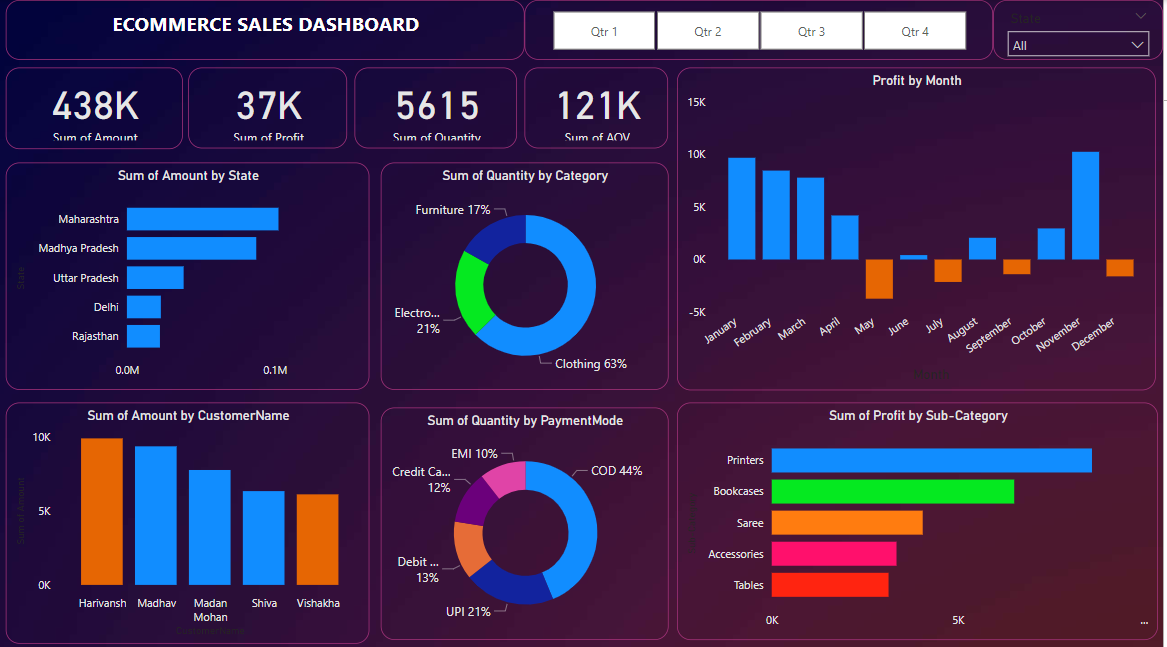

This screenshot's page, from the dashboard's own definition file:
{"tool":"powerbi","page":{"name":"Page 1","canvas":[1280,720],"ordinal":0},"visuals":[{"type":"textbox","box":[9.6,0,569.5,65.9],"z":0},{"type":"columnChart","title":"Profit by Month","fields":{"Category":["Orders.Order Date.Variation.Date Hierarchy.Month"],"Y":["Details.Profit"]},"box":[746.5,74.1,525.6,354],"z":1000},{"type":"barChart","fields":{"Category":["Details.Sub-Category"],"Y":["Details.Profit"]},"box":[746.5,441.9,528.3,260.7],"z":2000},{"type":"donutChart","fields":{"Category":["Details.Category"],"Y":["Details.Quantity"]},"box":[421.3,178.4,315.6,249.7],"z":3000},{"type":"donutChart","fields":{"Category":["Details.PaymentMode"],"Y":["Details.Quantity"]},"box":[421.3,447.3,315.6,255.2],"z":4000},{"type":"card","fields":{"Values":["Details.Amount"]},"box":[9.3,74.4,194.2,89.5],"z":5000},{"type":"card","fields":{"Values":["Details.Quantity"]},"box":[392.5,74.1,178.4,89.2],"z":6000},{"type":"card","fields":{"Values":["Details.Profit"]},"box":[209.9,74.1,174.3,89.2],"z":7000},{"type":"card","fields":{"Values":["Details.AOV"]},"box":[579.1,74.1,157.8,89.2],"z":8000},{"type":"barChart","fields":{"Category":["Orders.State"],"Y":["Details.Amount"]},"box":[9.6,178.4,399.3,249.7],"z":8001},{"type":"columnChart","fields":{"Category":["Orders.CustomerName"],"Y":["Details.Amount"]},"box":[9.6,441.9,399.3,264.8],"z":8002},{"type":"slicer","fields":{"Values":["Orders.Order Date.Variation.Date Hierarchy.Quarter"]},"box":[579.1,0,514.6,65.9],"z":8003},{"type":"slicer","fields":{"Values":["Orders.State"]},"box":[1093.7,0,186.6,65.9],"z":8004}]}

Visuals, with their boxes in screenshot pixels (x1, y1, x2, y2), scaled from the page's 1280x720 canvas onto the 1167x647 screenshot:
textbox: bbox(9, 0, 528, 59)
"Profit by Month" columnChart: bbox(681, 67, 1160, 385)
barChart - Details.Sub-Category x Details.Profit: bbox(681, 397, 1162, 631)
donutChart - Details.Category x Details.Quantity: bbox(384, 160, 672, 385)
donutChart - Details.PaymentMode x Details.Quantity: bbox(384, 402, 672, 631)
card - Details.Amount: bbox(8, 67, 186, 147)
card - Details.Quantity: bbox(358, 67, 521, 147)
card - Details.Profit: bbox(191, 67, 350, 147)
card - Details.AOV: bbox(528, 67, 672, 147)
barChart - Orders.State x Details.Amount: bbox(9, 160, 373, 385)
columnChart - Orders.CustomerName x Details.Amount: bbox(9, 397, 373, 635)
slicer - Orders.Order Date.Variation.Date Hierarchy.Quarter: bbox(528, 0, 997, 59)
slicer - Orders.State: bbox(997, 0, 1166, 59)
